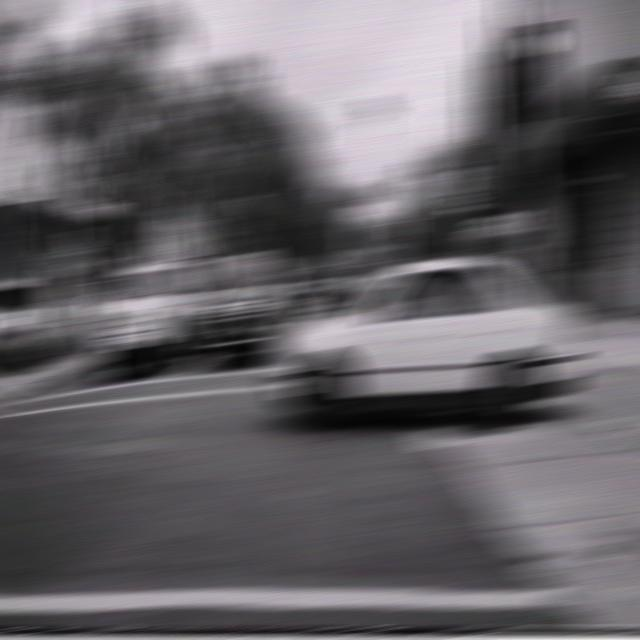speedLimit25: (444, 166, 480, 212)
